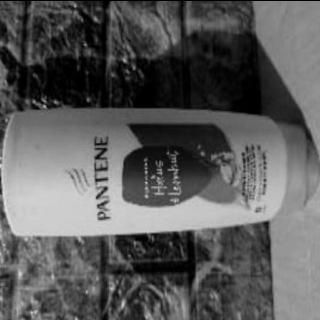objects: (0, 104, 320, 236)
